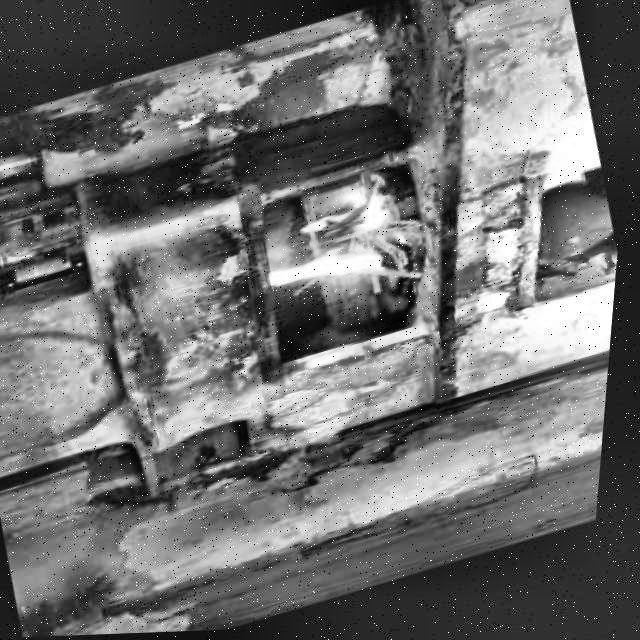Fire: (240, 178, 420, 324)
